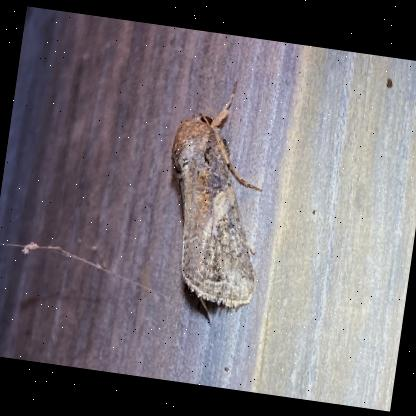Fall Armyworm Moth: (148, 68, 285, 314)
